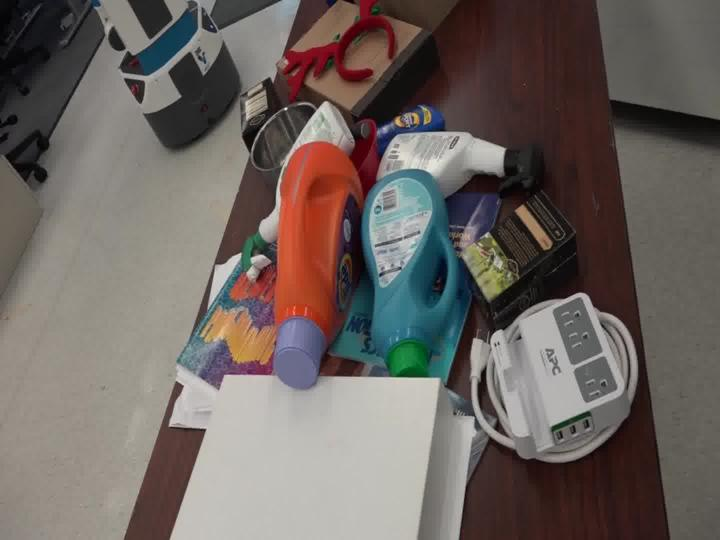tide: (269, 118, 367, 388)
